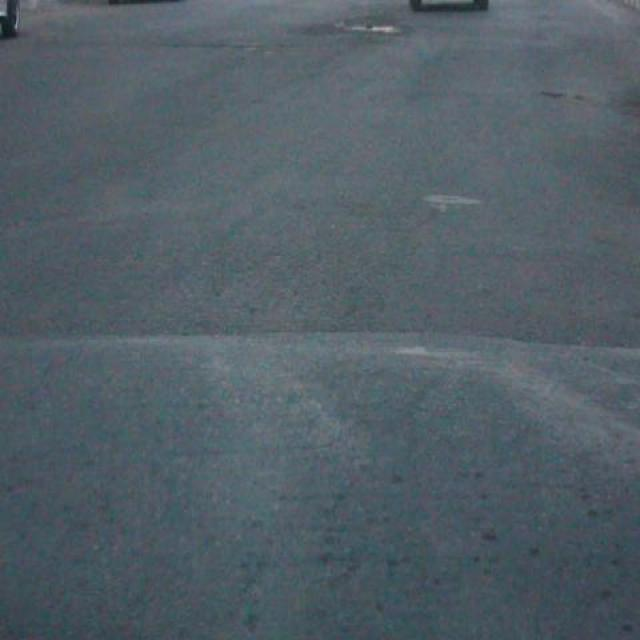Pothole: (330, 12, 412, 50), (419, 174, 486, 220)
Unmarked Bump: (0, 324, 640, 640)
